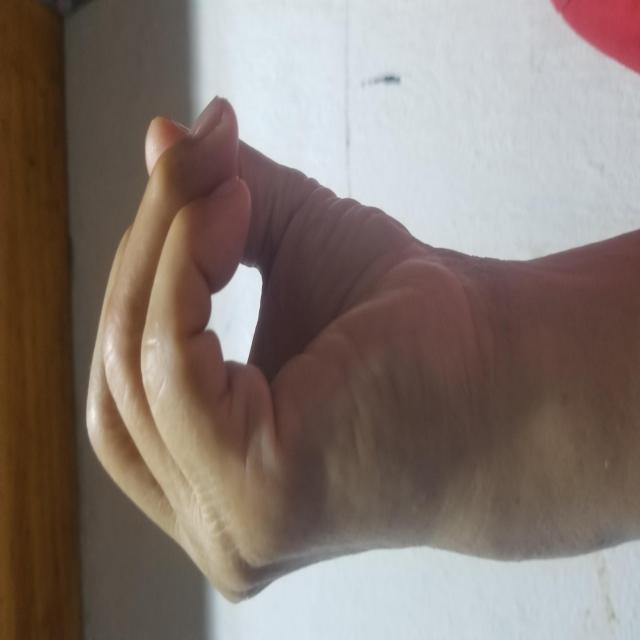O: (28, 84, 551, 456)
